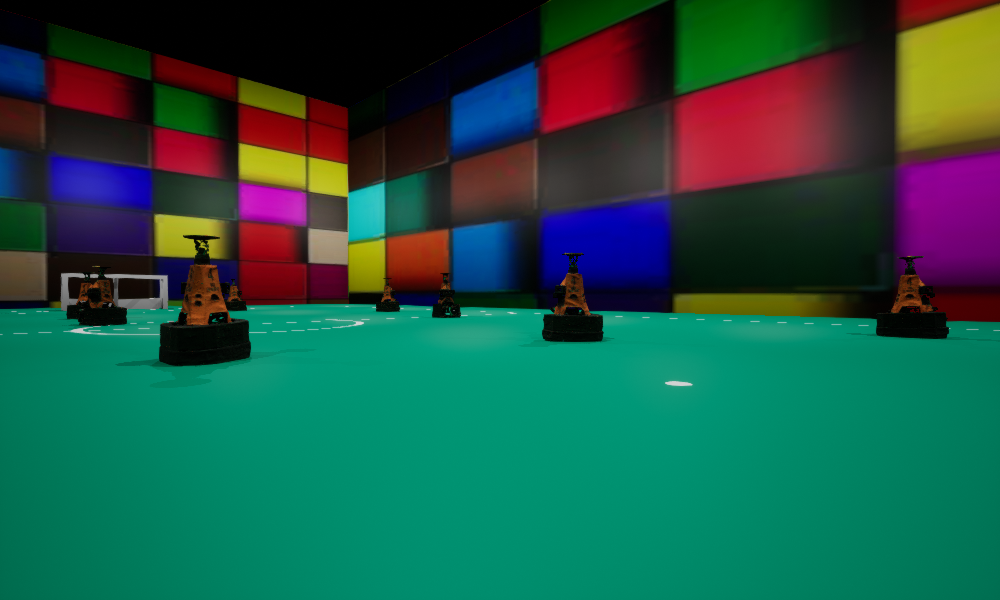0 orange robot TechUnited: (159, 235, 250, 365), (876, 256, 948, 338), (542, 253, 603, 341), (75, 266, 126, 325), (66, 272, 98, 318), (432, 273, 460, 317), (376, 278, 399, 311), (225, 279, 246, 310)
